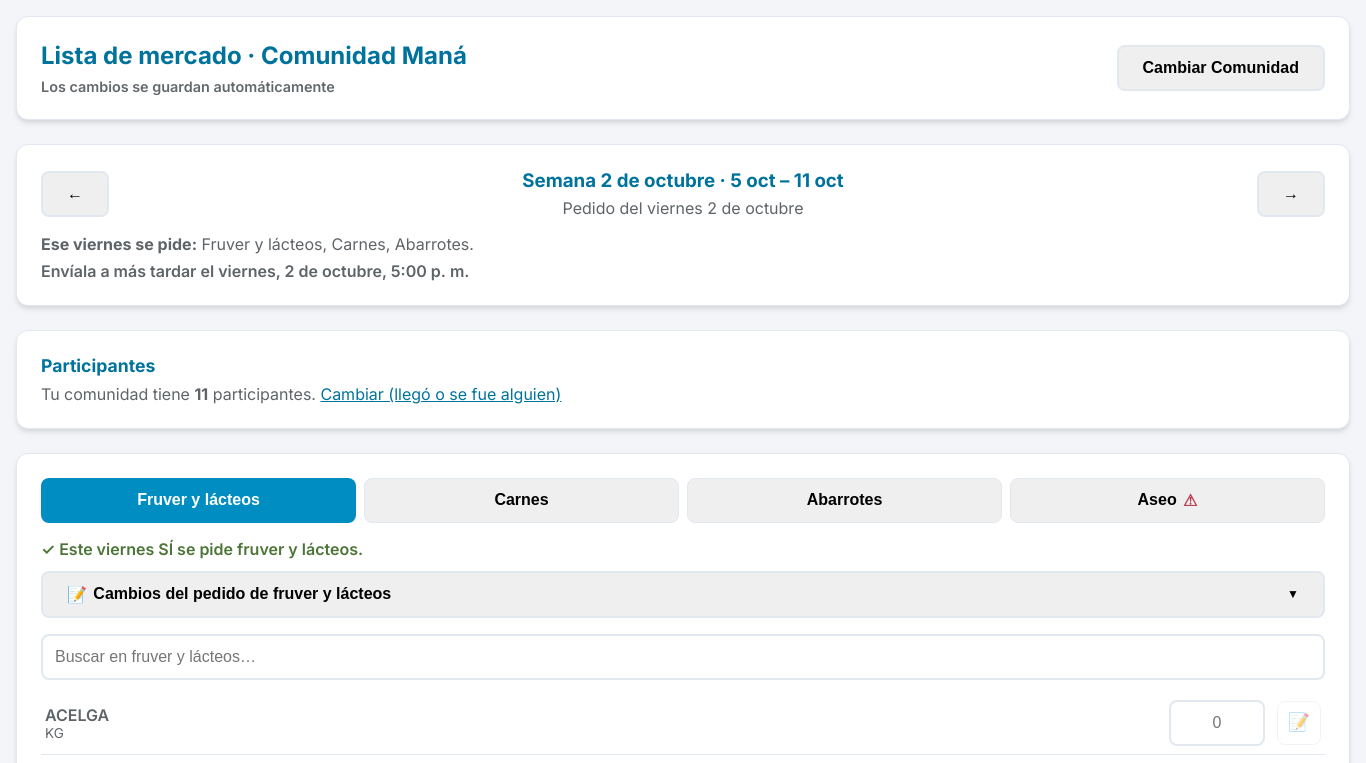
Test: zona de cambios: agregar › una nota general se guarda sola tras la pausa, solo en su tipo y sin tocar las cantidades
The width and height of the screenshot is (1366, 763).
Click the button "📝 Cambios del pedido de fruver y lácteos ▼" at (183, 594), box 41,571 -> 1325,618
(page scrolled)
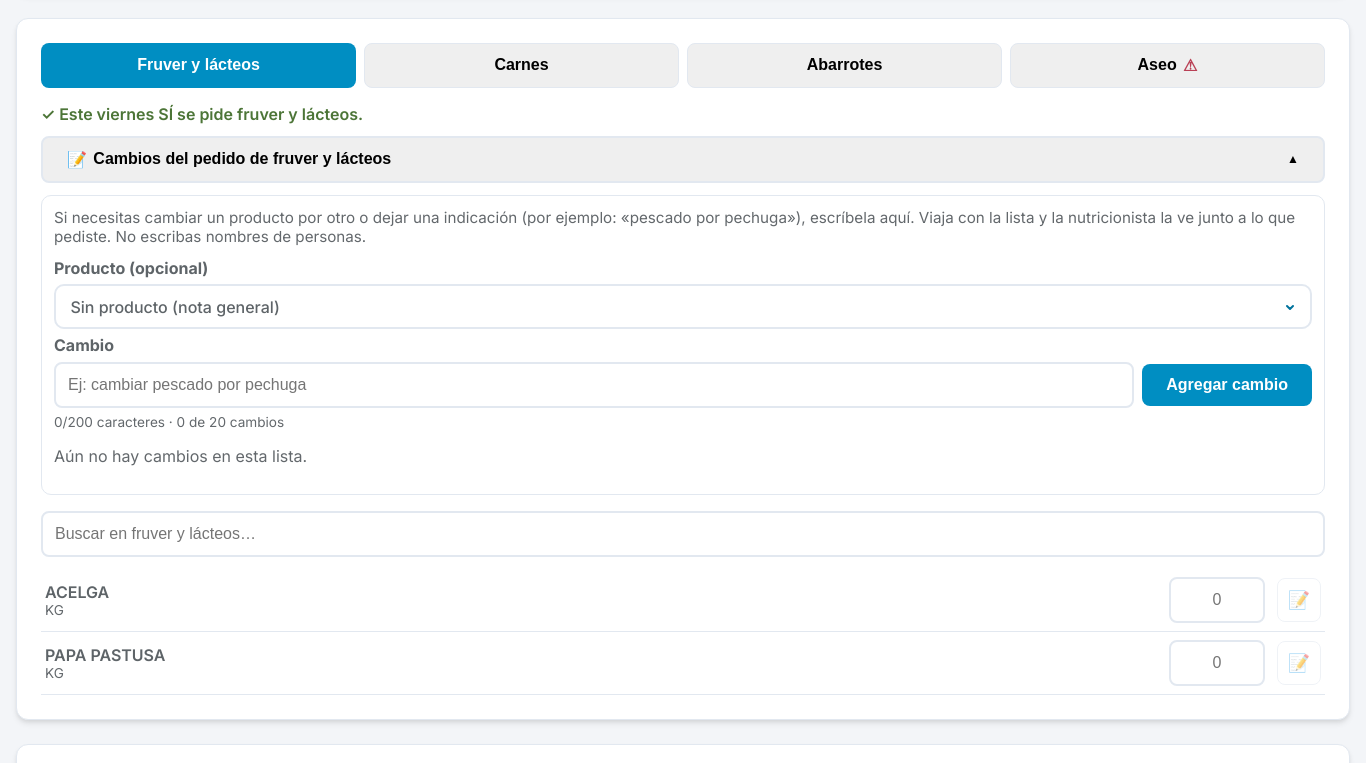
Type "Entregar temprano" into the field labelled "Cambio" at (594, 385), box 54,362 -> 1134,408
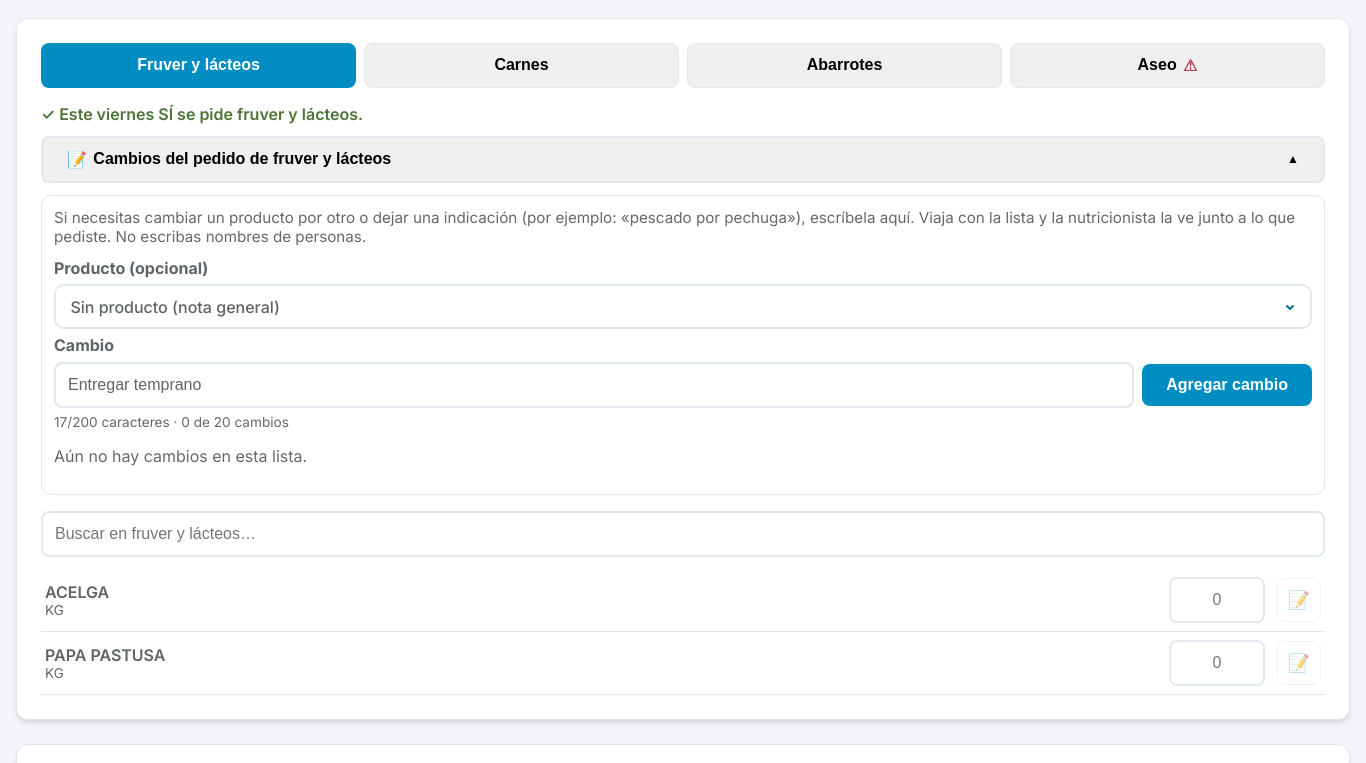
Click the button "Agregar cambio" at (1227, 385), box 1142,364 -> 1312,406
Wait 700 ms
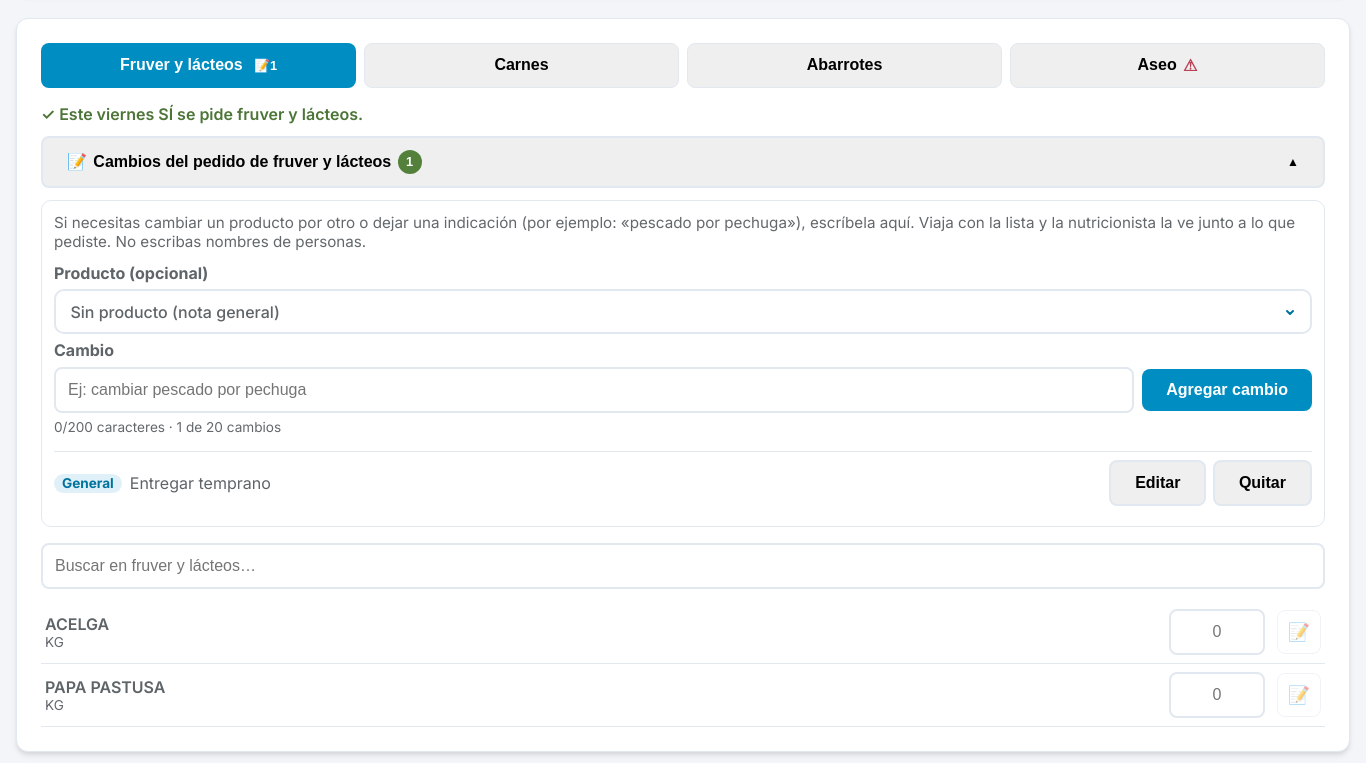
Now the text "Entregar temprano" is shown, box 130,473 -> 271,493
Now the text "General" is shown, box 54,474 -> 122,493
